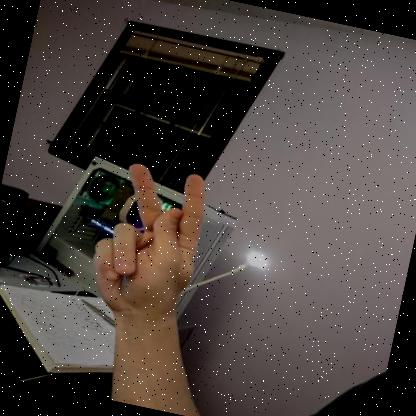K: (93, 163, 205, 332)
